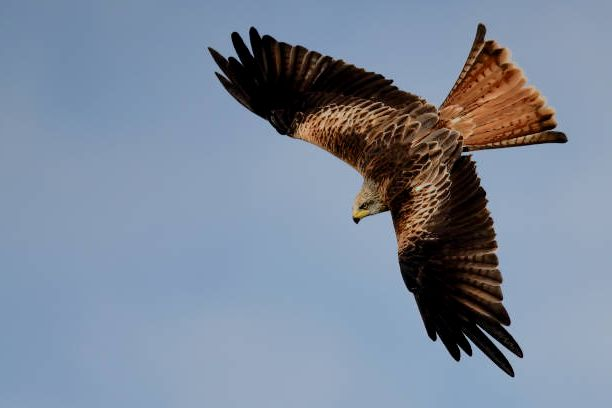Bird: (207, 19, 572, 385)
